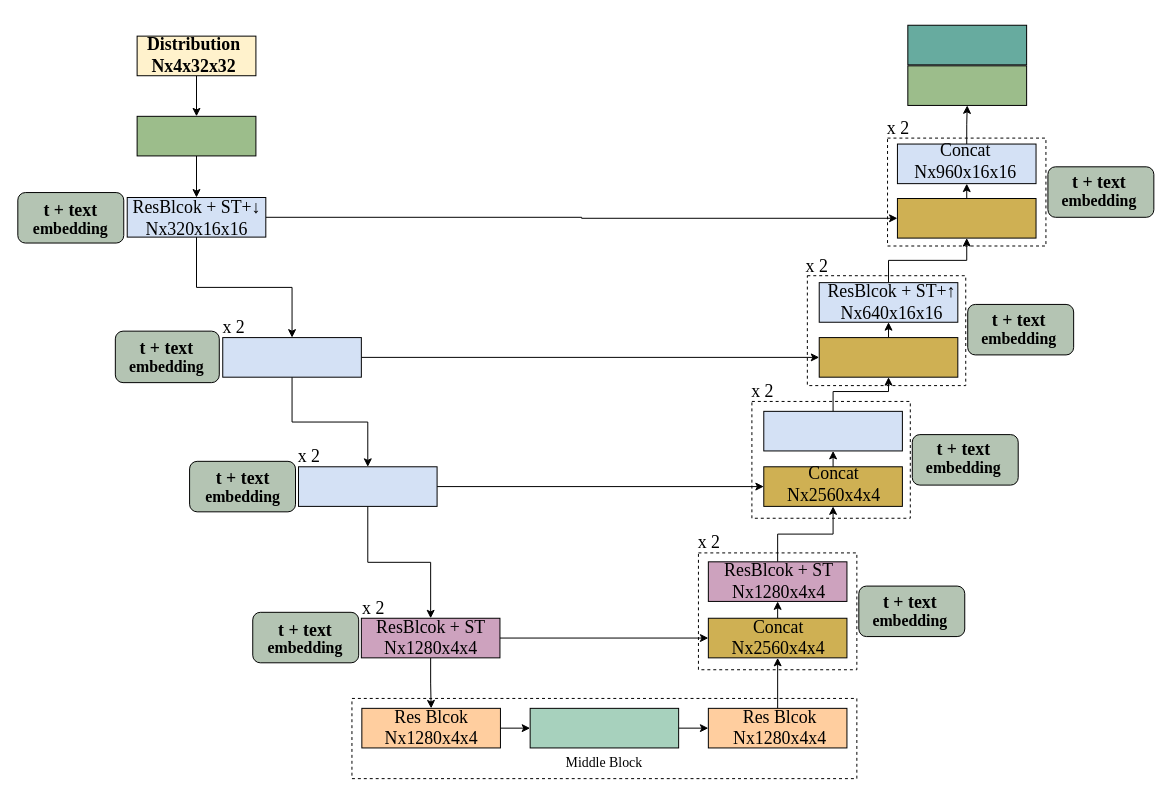
This 1171x796 diagram has some shape labels left out. The centre of each missing label's shape, as x and y in pixels:
Concat Nx1920x8x8: pixel 888 357
Conv Nx320x32x32: pixel 196 135
Conv Nx4x32x32: pixel 967 85
ResBlcok + ST+↑ Nx1280x8x8: pixel 832 430
ResBlcok + ST+↑ Nx320x32x32: pixel 966 218
ResBlcok + ST+↓ Nx1280x8x8: pixel 291 357
ResBlcok + ST+↓ Nx640x4x4: pixel 367 486
SpatialTransformer Nx1280x4x4: pixel 604 727
t add Noise Nx4x32x32: pixel 967 44
